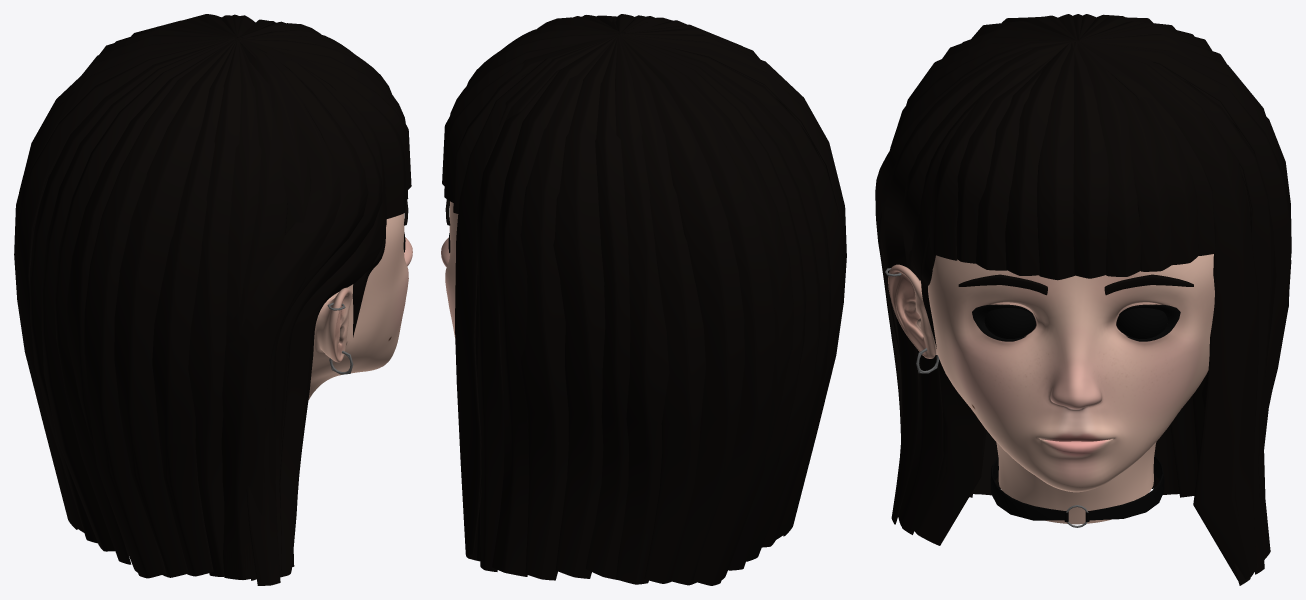
3 renders of one model, left to right at view 1: azimuth 30°, elevation 25°; view 2: azimuth 150°, elevation 25°; view 3: azimuth 270°, elevation 25°, orthographic. The views are drawn at different scales.
Visible parts, largest first — view 1: NurbsPath.052, NurbsPath.045, NurbsPath.053, NurbsPath.051, NurbsPath.050, NurbsPath.042, Body, NurbsPath.041, NurbsPath.037, NurbsPath.054, NurbsPath.043, NurbsPath.055 (+15 smaller); view 2: NurbsPath.030, NurbsPath.035, NurbsPath.029, NurbsPath.034, NurbsPath.036, NurbsPath.033, NurbsPath.028, NurbsPath.031, NurbsPath.020, NurbsPath.004, NurbsPath.037, NurbsPath.065 (+15 smaller); view 3: Body, NurbsPath.004, NurbsPath.028, NurbsPath.042, NurbsPath.070, NurbsPath.041, NurbsPath.074, NurbsPath.020, NurbsPath.073, NurbsPath.069, NurbsPath.049, NurbsPath.075 (+24 smaller).
Boxes of the visible parts, bbox=[...] form: NurbsPath.052: bbox=[114, 39, 236, 577]; NurbsPath.045: bbox=[221, 38, 340, 579]; NurbsPath.053: bbox=[84, 38, 236, 578]; NurbsPath.051: bbox=[152, 39, 237, 576]; NurbsPath.050: bbox=[188, 39, 241, 576]; NurbsPath.042: bbox=[237, 38, 368, 585]; Body: bbox=[308, 213, 412, 400]; NurbsPath.041: bbox=[276, 50, 386, 571]; NurbsPath.037: bbox=[41, 37, 236, 551]; NurbsPath.054: bbox=[54, 39, 234, 564]; NurbsPath.043: bbox=[239, 38, 382, 577]; NurbsPath.055: bbox=[66, 43, 228, 572]; NurbsPath.030: bbox=[553, 36, 617, 578]; NurbsPath.035: bbox=[619, 36, 744, 585]; NurbsPath.029: bbox=[520, 34, 617, 580]; NurbsPath.034: bbox=[618, 35, 705, 583]; NurbsPath.036: bbox=[619, 35, 775, 585]; NurbsPath.033: bbox=[615, 35, 669, 584]; NurbsPath.028: bbox=[492, 36, 616, 576]; NurbsPath.031: bbox=[585, 37, 630, 579]; NurbsPath.020: bbox=[476, 69, 560, 571]; NurbsPath.004: bbox=[455, 37, 611, 554]; NurbsPath.037: bbox=[623, 37, 820, 561]; NurbsPath.065: bbox=[622, 36, 806, 570]; Body: bbox=[888, 254, 1214, 524]; NurbsPath.004: bbox=[1080, 42, 1258, 580]; NurbsPath.028: bbox=[1080, 41, 1291, 559]; NurbsPath.042: bbox=[881, 44, 1052, 524]; NurbsPath.070: bbox=[1037, 41, 1077, 280]; NurbsPath.041: bbox=[898, 42, 1074, 531]; NurbsPath.074: bbox=[1070, 41, 1109, 278]; NurbsPath.020: bbox=[1153, 62, 1276, 574]; NurbsPath.073: bbox=[1076, 40, 1141, 276]; NurbsPath.069: bbox=[1005, 40, 1071, 275]; NurbsPath.049: bbox=[912, 359, 986, 545]; NurbsPath.075: bbox=[1098, 62, 1172, 271].
Size of the model in its own units: 1.74 by 2.18 by 1.59.
